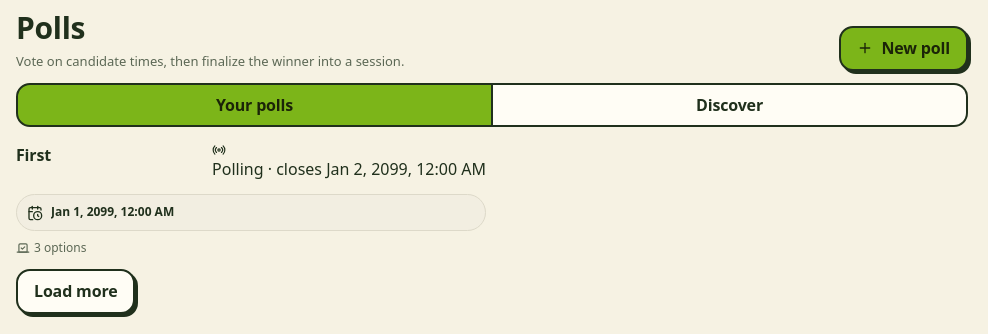
PollListPage › loads the next cursor page for the active band
Expected: the heading "First" is shown, top-left (16, 143), bottom-right (51, 167)
Click the button "Load more" at (76, 292), box top-left (16, 269), bottom-right (136, 314)
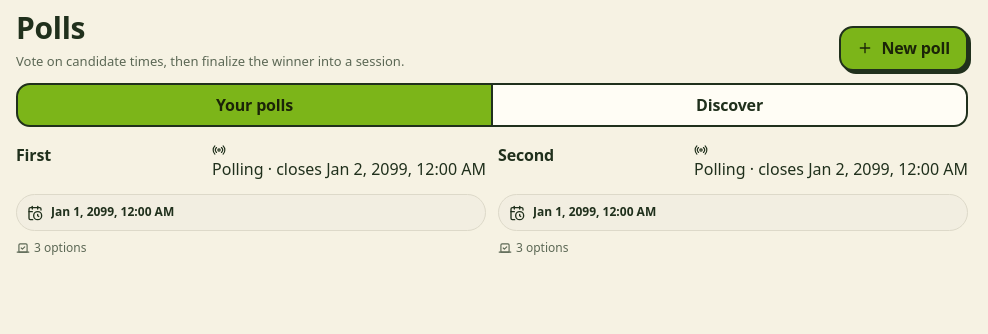
Expected: the heading "First" is shown, top-left (16, 143), bottom-right (51, 167)
Expected: the heading "Second" is shown, top-left (498, 143), bottom-right (554, 167)
